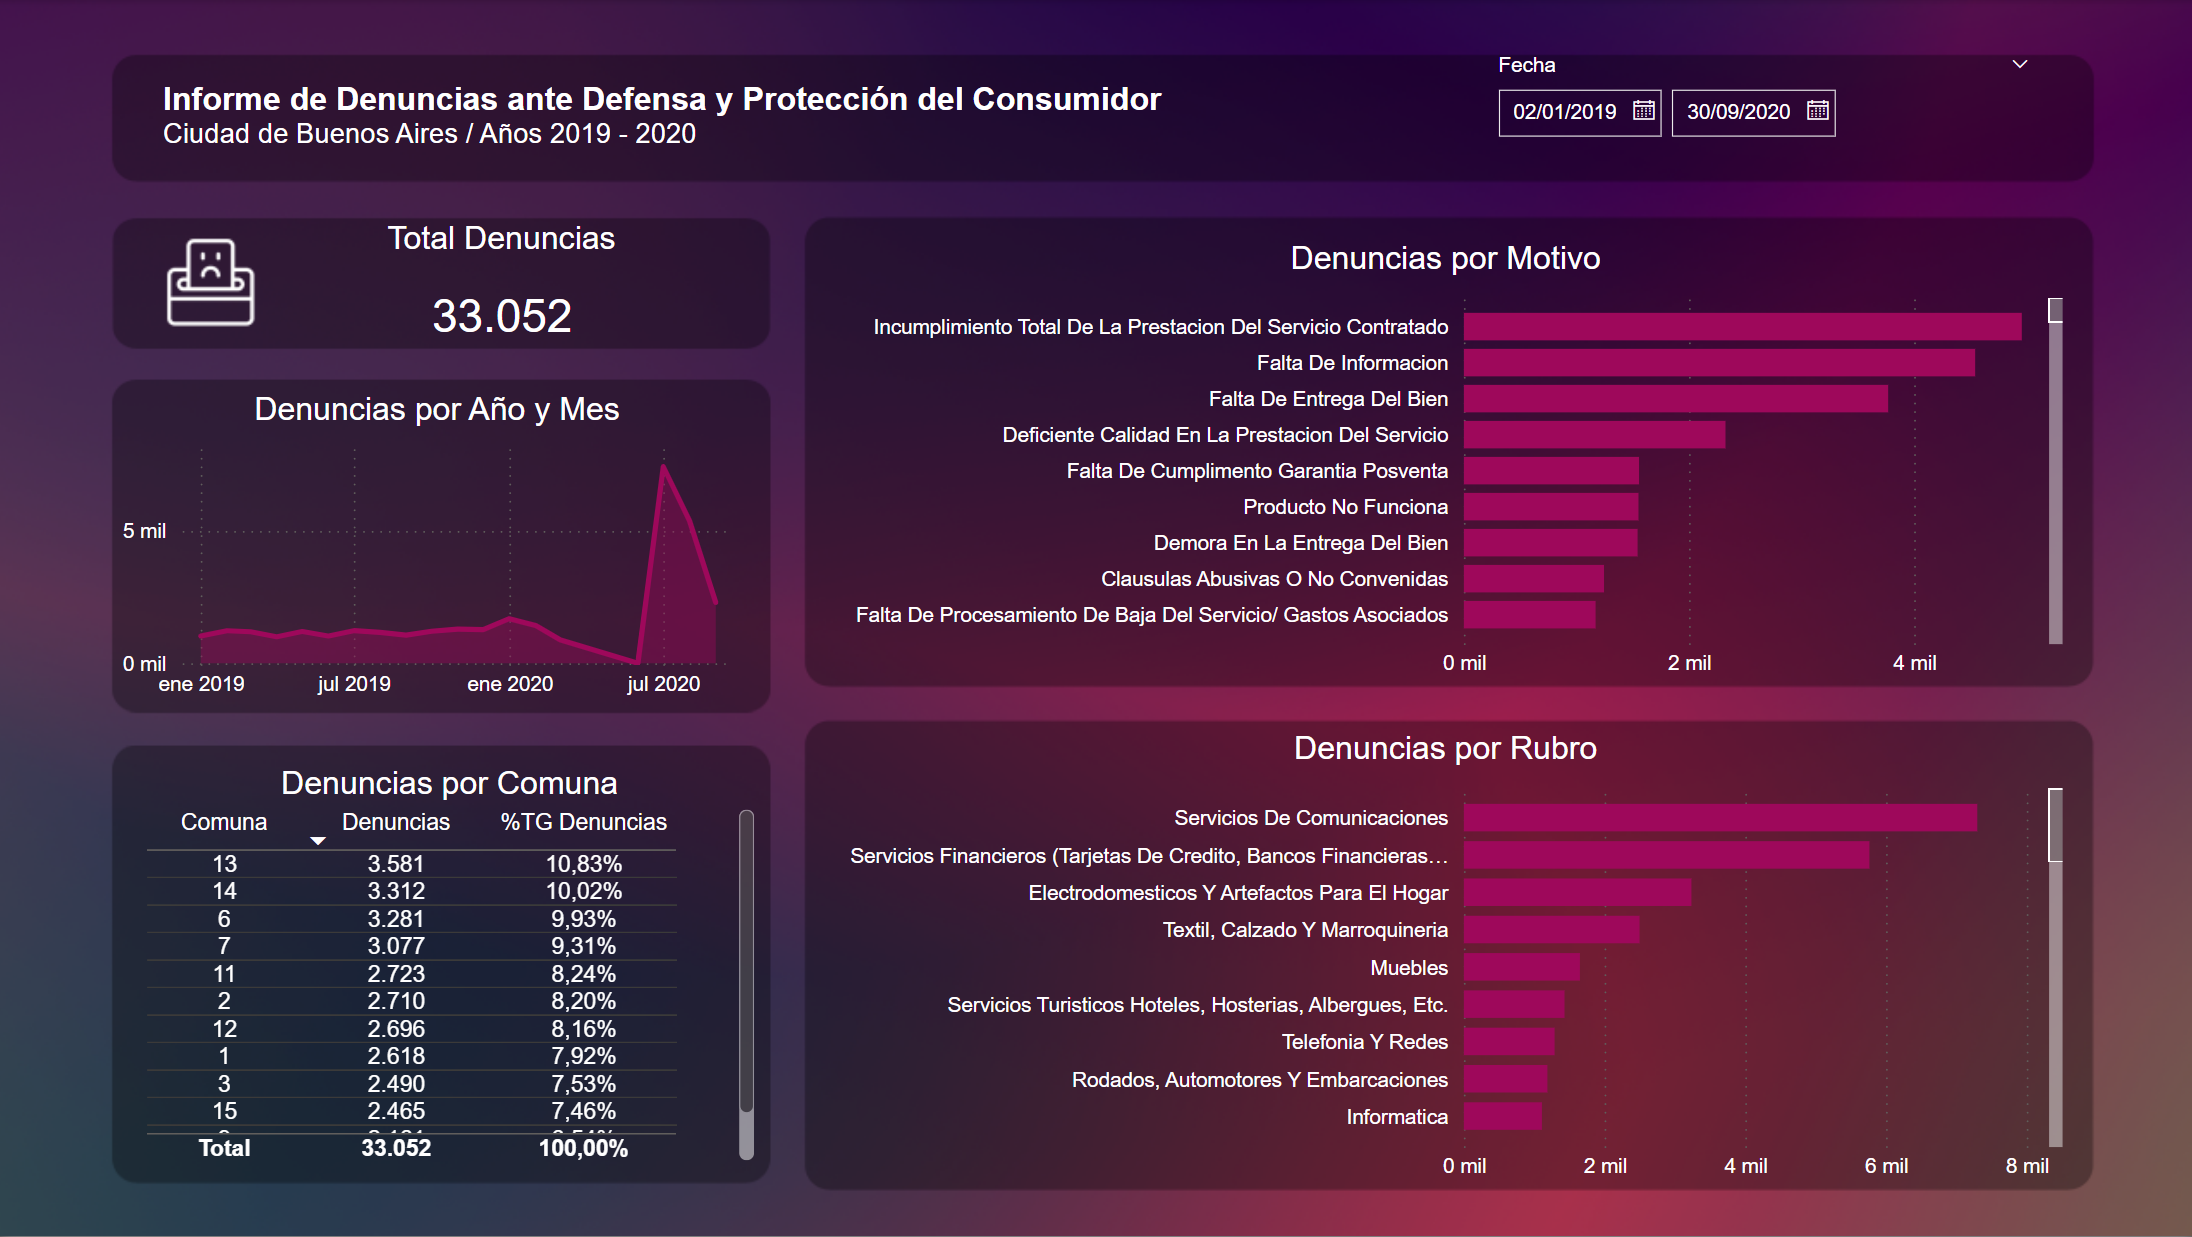

What the dashboard file says about the page in this screenshot:
{"tool":"powerbi","page":{"name":"Página 1","canvas":[1280,720],"ordinal":0},"visuals":[{"type":"card","title":"Total Denuncias","fields":{"Values":["denuncias-defensa-del-consumidor.Denuncias"]},"box":[153.2,127.9,279.9,89.3],"z":0},{"type":"areaChart","fields":{"Y":["denuncias-defensa-del-consumidor.Denuncias"],"Category":["denuncias-defensa-del-consumidor.Fecha.Variación.Jerarquía de fechas.Año","denuncias-defensa-del-consumidor.Fecha.Variación.Jerarquía de fechas.Mes"]},"box":[67.6,228,377.6,185.8],"z":1000},{"type":"barChart","fields":{"Category":["denuncias-defensa-del-consumidor.Motivo"],"Y":["denuncias-defensa-del-consumidor.Denuncias"]},"box":[479,139.9,727.5,261.8],"z":2000},{"type":"barChart","fields":{"Category":["denuncias-defensa-del-consumidor.Rubro"],"Y":["denuncias-defensa-del-consumidor.Denuncias"]},"box":[479,424.7,727.5,269],"z":3000},{"type":"tableEx","title":"Denuncias por Comuna","fields":{"Values":["denuncias-defensa-del-consumidor.Comuna","denuncias-defensa-del-consumidor.Denuncias","Divide(denuncias-defensa-del-consumidor.Denuncias, ScopedEval(denuncias-defensa-del-consumidor.Denuncias, []))"]},"box":[80.8,445.2,364.3,235.3],"z":4000},{"type":"slicer","fields":{"Values":["denuncias-defensa-del-consumidor.Fecha"]},"box":[860.2,26.5,334.2,82],"z":5000},{"type":"textbox","box":[91.7,42.2,694.9,55.5],"z":6000}]}

Visuals, with their boxes in screenshot pixels (x1, y1, x2, y2), scaled from the page's 1280x720 canvas onto the 2192x1237 screenshot:
"Total Denuncias" card: (x1=262, y1=220, x2=742, y2=373)
areaChart - denuncias-defensa-del-consumidor.Denuncias x denuncias-defensa-del-consumidor.Fecha.Variación.Jerarquía de fechas.Año: (x1=116, y1=392, x2=762, y2=711)
barChart - denuncias-defensa-del-consumidor.Motivo x denuncias-defensa-del-consumidor.Denuncias: (x1=820, y1=240, x2=2066, y2=690)
barChart - denuncias-defensa-del-consumidor.Rubro x denuncias-defensa-del-consumidor.Denuncias: (x1=820, y1=730, x2=2066, y2=1192)
"Denuncias por Comuna" tableEx: (x1=138, y1=765, x2=762, y2=1169)
slicer - denuncias-defensa-del-consumidor.Fecha: (x1=1473, y1=46, x2=2045, y2=186)
textbox: (x1=157, y1=73, x2=1347, y2=168)
